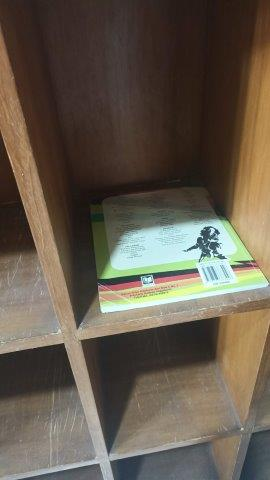kertas: (89, 180, 269, 307)
